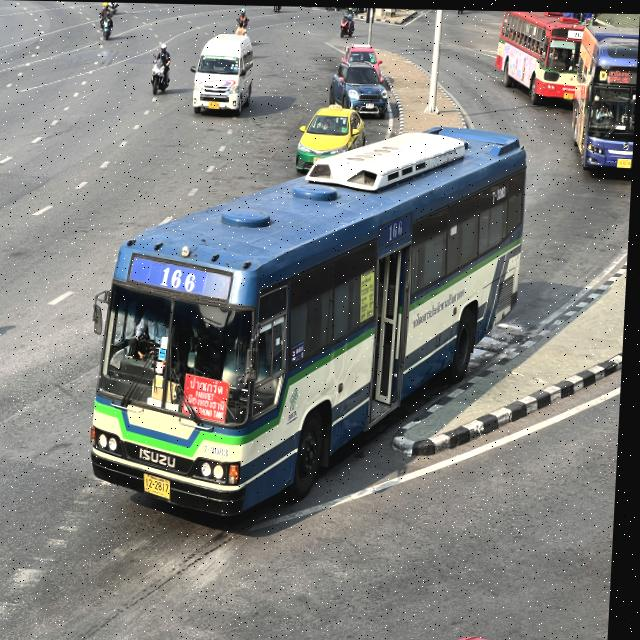BMTA-bus: (90, 119, 532, 526), (493, 9, 586, 106)
Bus-Line-Number: (159, 263, 201, 294), (572, 27, 582, 36)
Destination-Sign-Extra-Bus: (185, 372, 235, 425)
Destination-Sign-Normal: (606, 66, 632, 81)
TSB-Bus: (570, 22, 640, 171)
